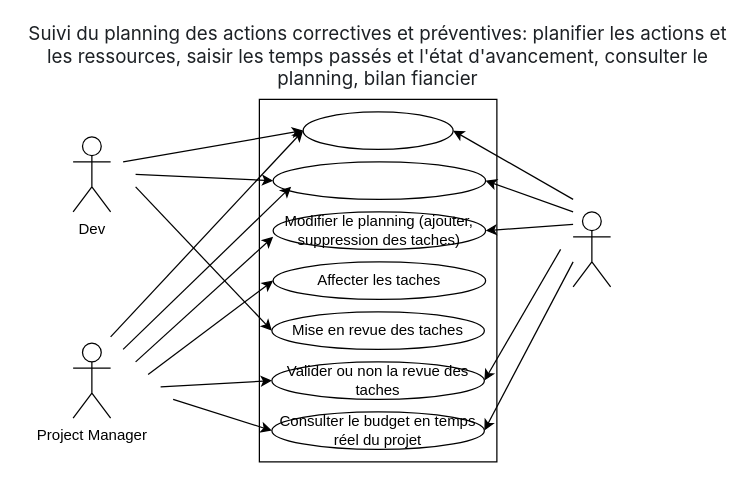
Some shapes in this 755 by 484 pixel diagram are drawn without their labels. Here are the shapes that lost their labels. From the top down, the centre of each, then its label:
At (x=377, y=130): "Se connecter".
At (x=379, y=180): "Visualiser l'état du projet".
At (x=591, y=249): "Product Owner".
